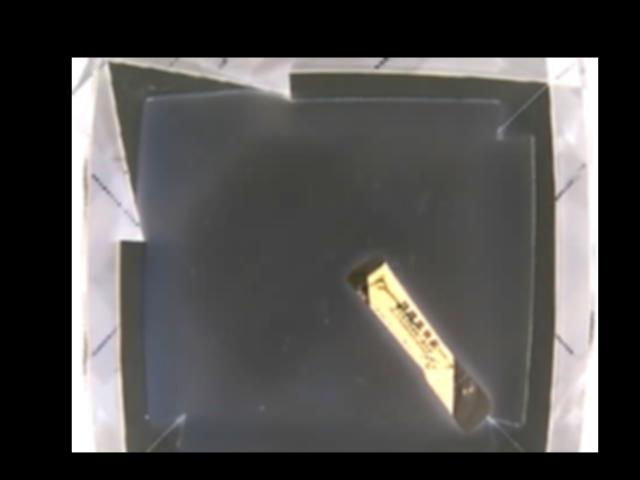Medicine: (348, 255, 492, 434)
